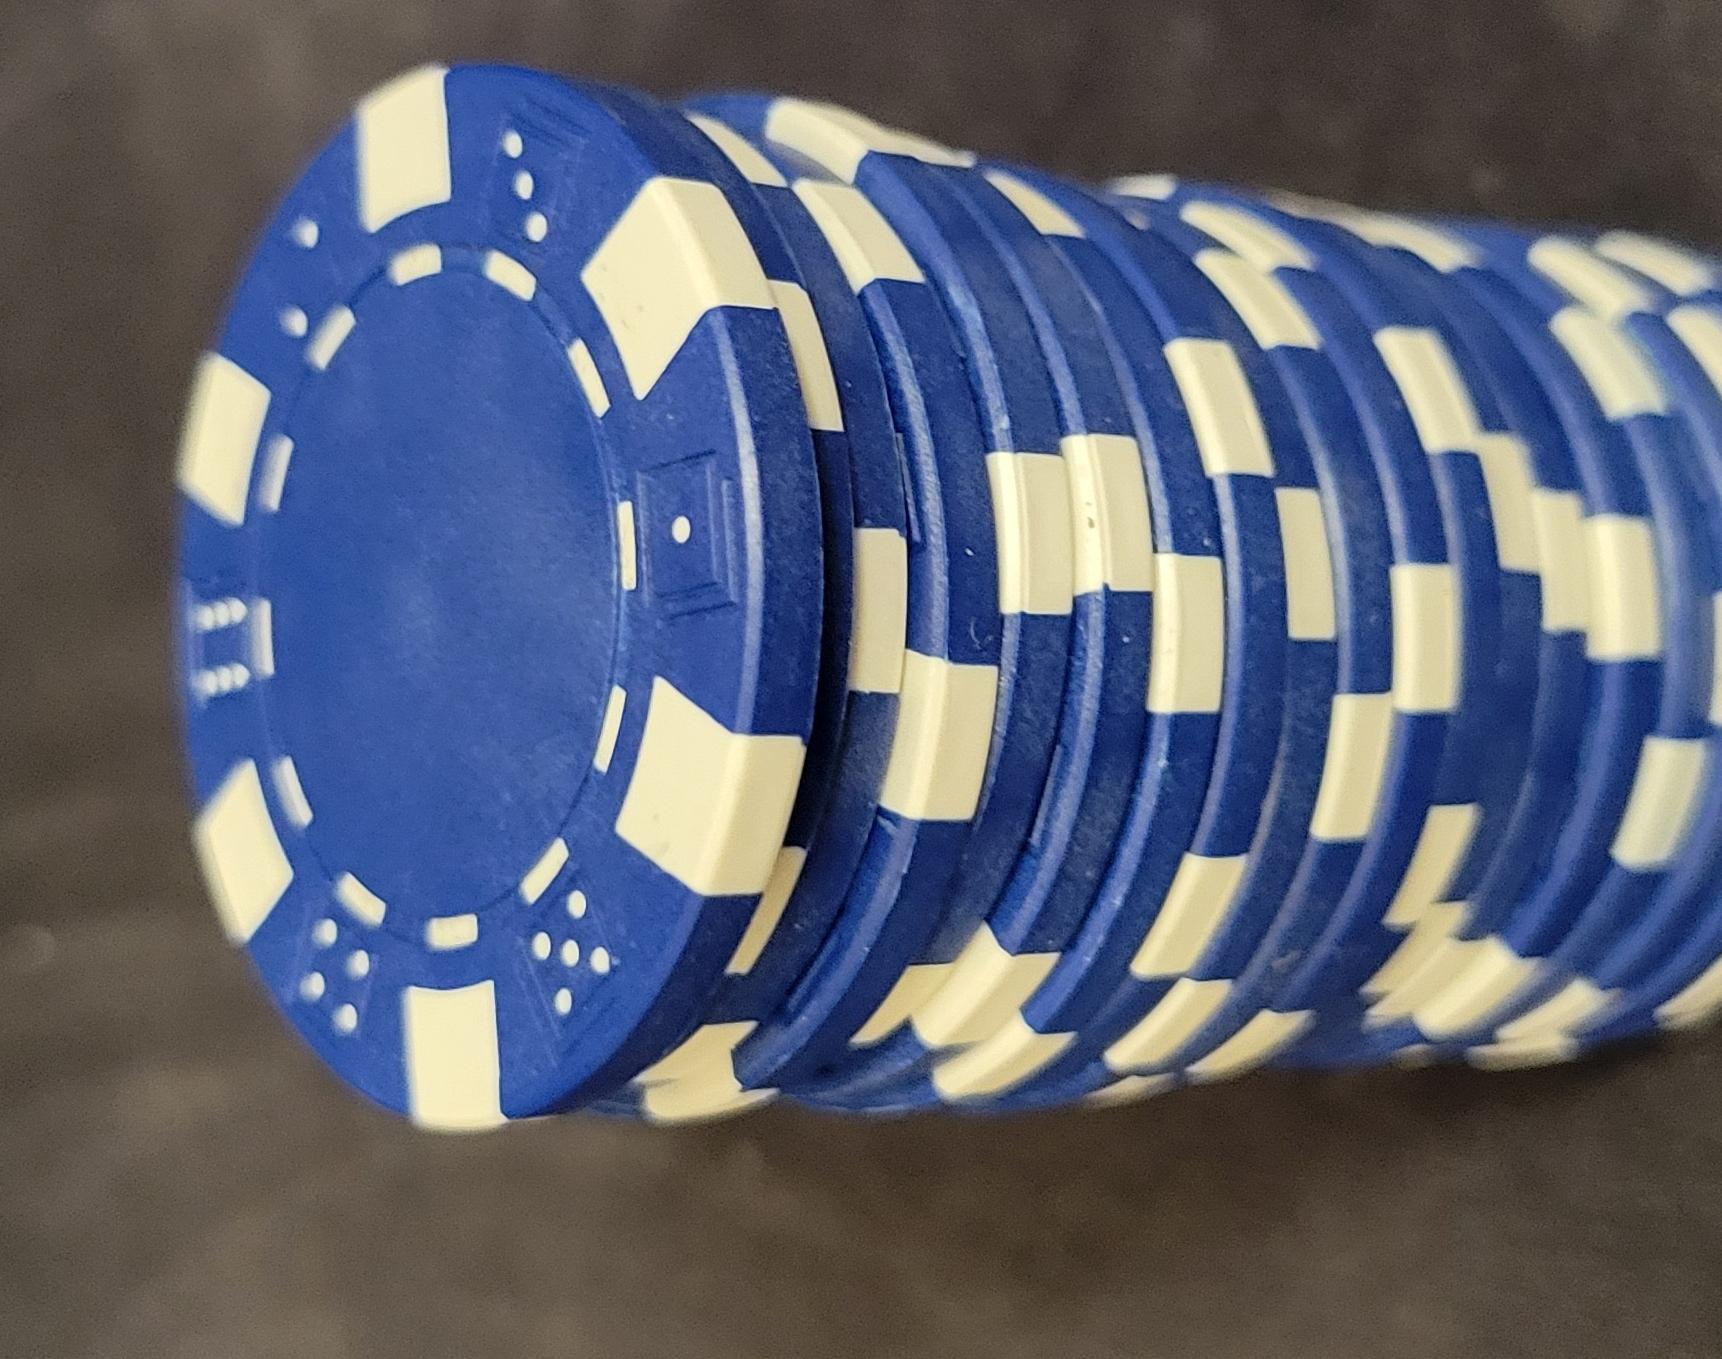Chip: (1, 308, 1016, 1359)
